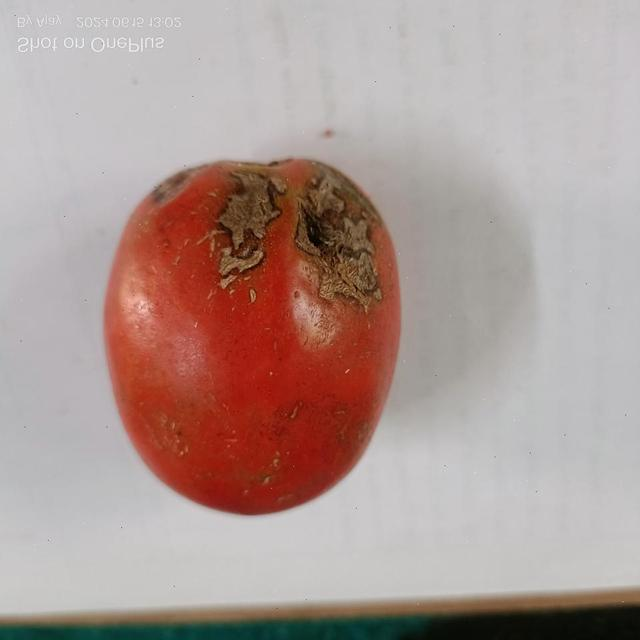Bacterial Spot Fruit: (21, 17, 221, 163)
